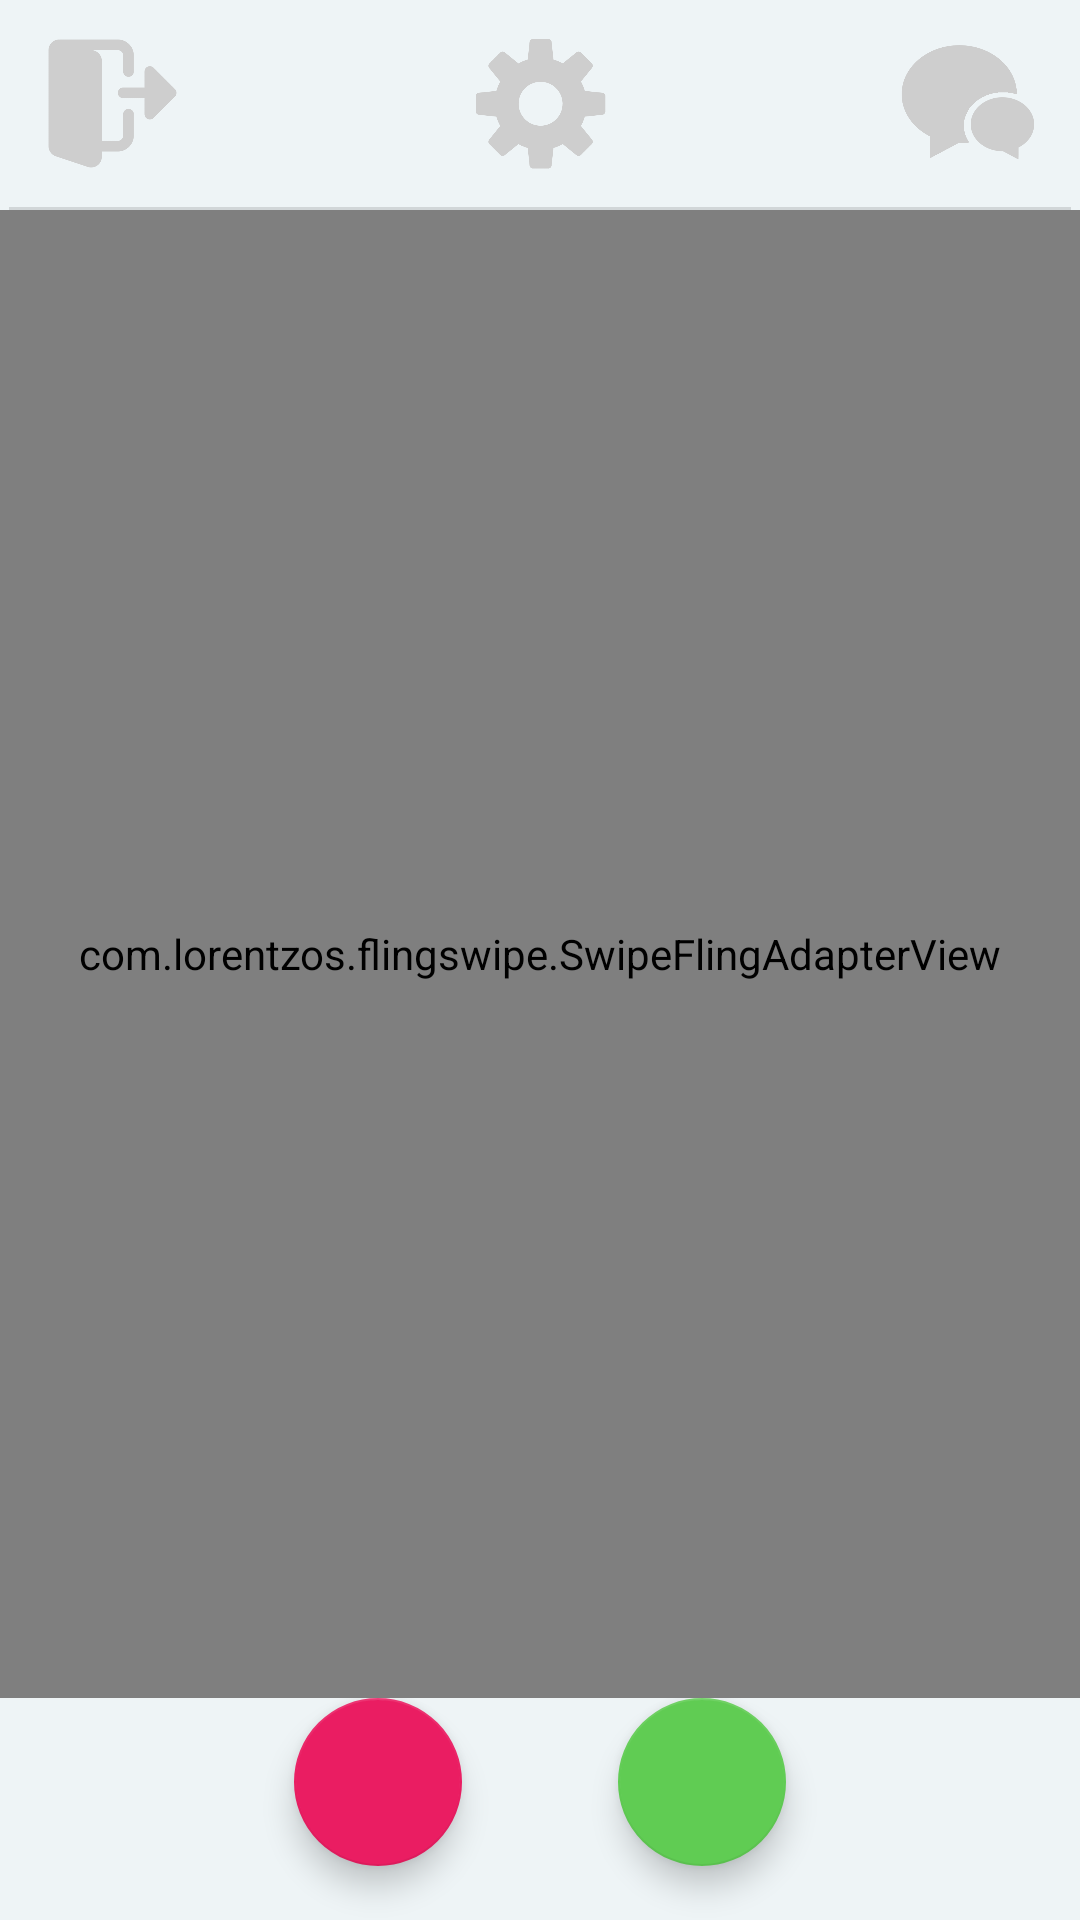

Icons on this 1080 × 1920 Android screen, each with its box as (x1, y1, x2, y2):
chats: (902, 45, 1034, 159)
settings: (476, 39, 605, 168)
